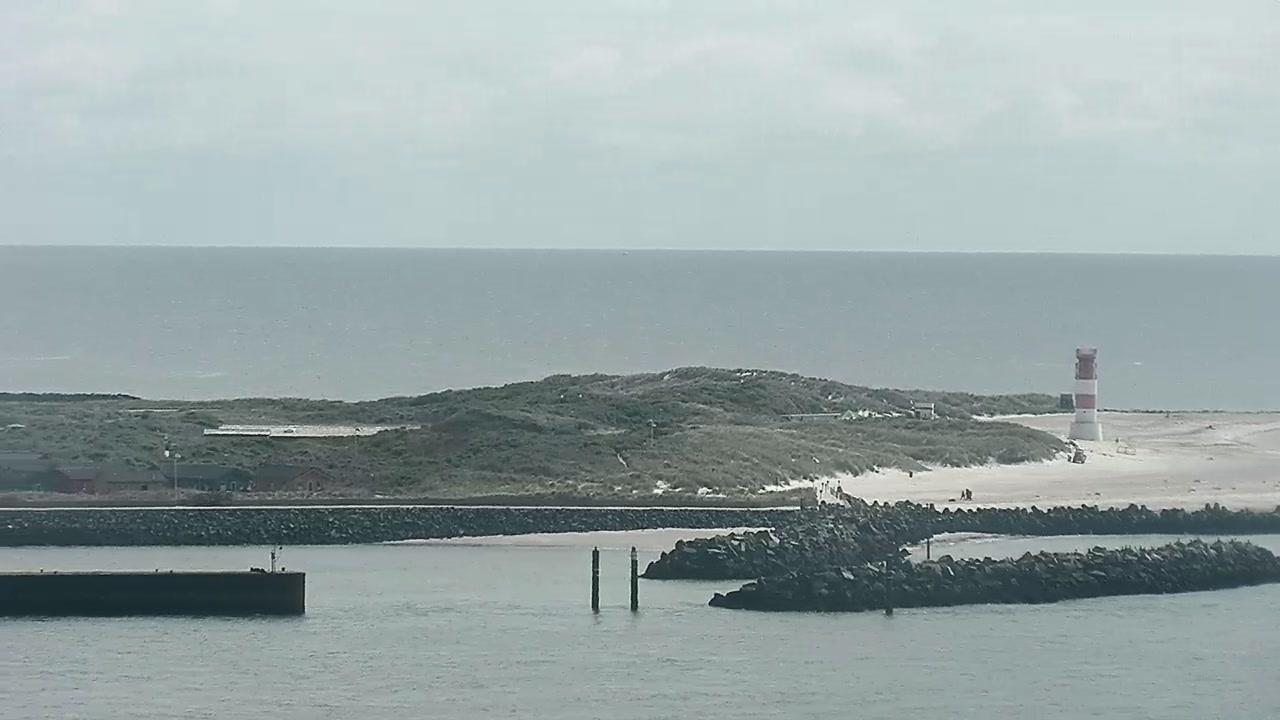human: (964, 487, 973, 501), (958, 486, 965, 500), (908, 469, 913, 480), (1114, 437, 1119, 445)
land: (1071, 449, 1087, 463)
